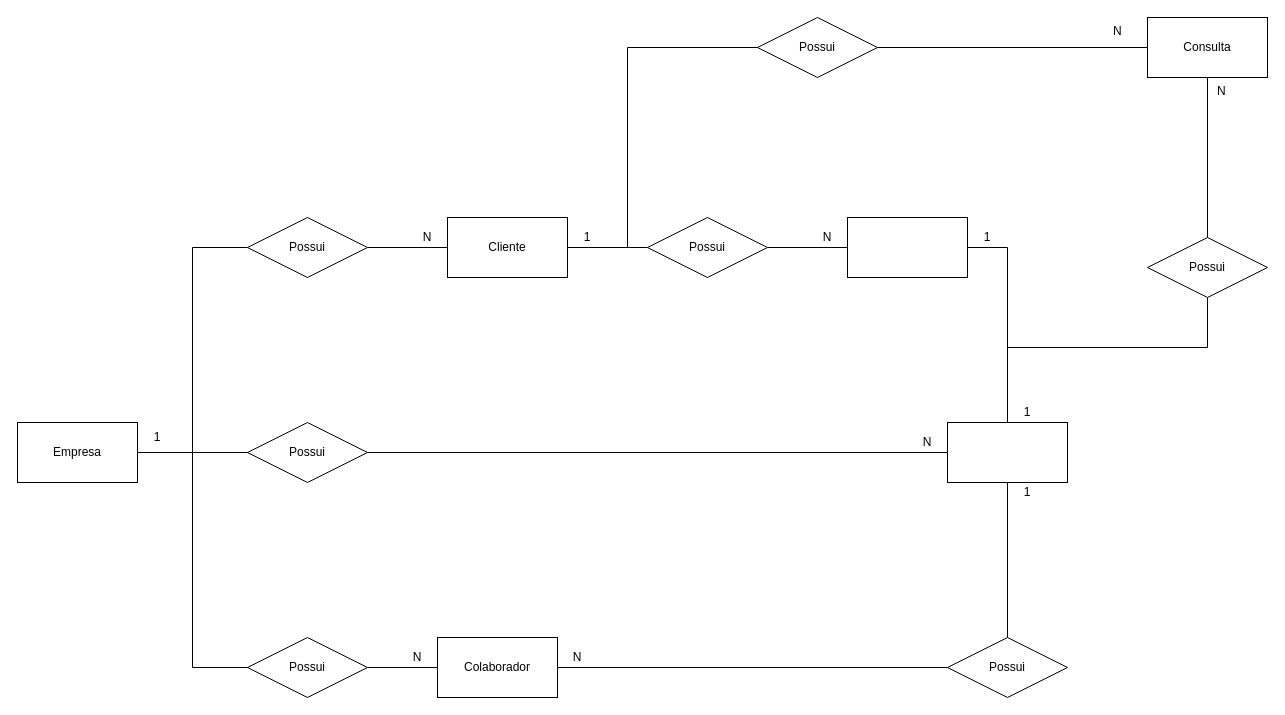
Image size: 1285x715. Some labels were removed from this diagram. The centre of each missing label's shape, as x and y in pixels:
Aparelhos: [907,247]
Conserto: [1007,452]
